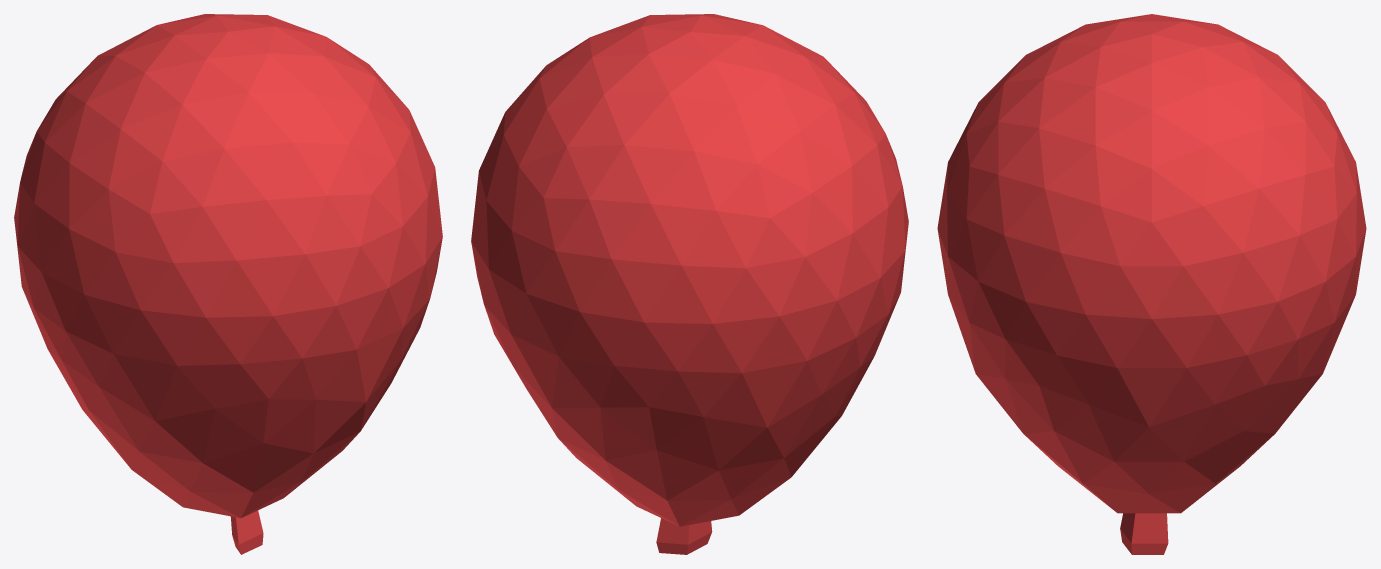
Rendered from balloon.fbx.
3 views of the same model, side by side, from view 1: azimuth 30°, elevation 25°; view 2: azimuth 150°, elevation 25°; view 3: azimuth 270°, elevation 25° (orthographic). The views are drawn at different scales.
Visible parts, largest first — view 1: Icosphere; view 2: Icosphere; view 3: Icosphere.
Part boxes in pixels (x1,y1,x2,y2): Icosphere: [14, 14, 442, 554]; Icosphere: [471, 14, 908, 554]; Icosphere: [937, 14, 1366, 554].
Bounding box in the file's own units: 200 × 264 × 200.
